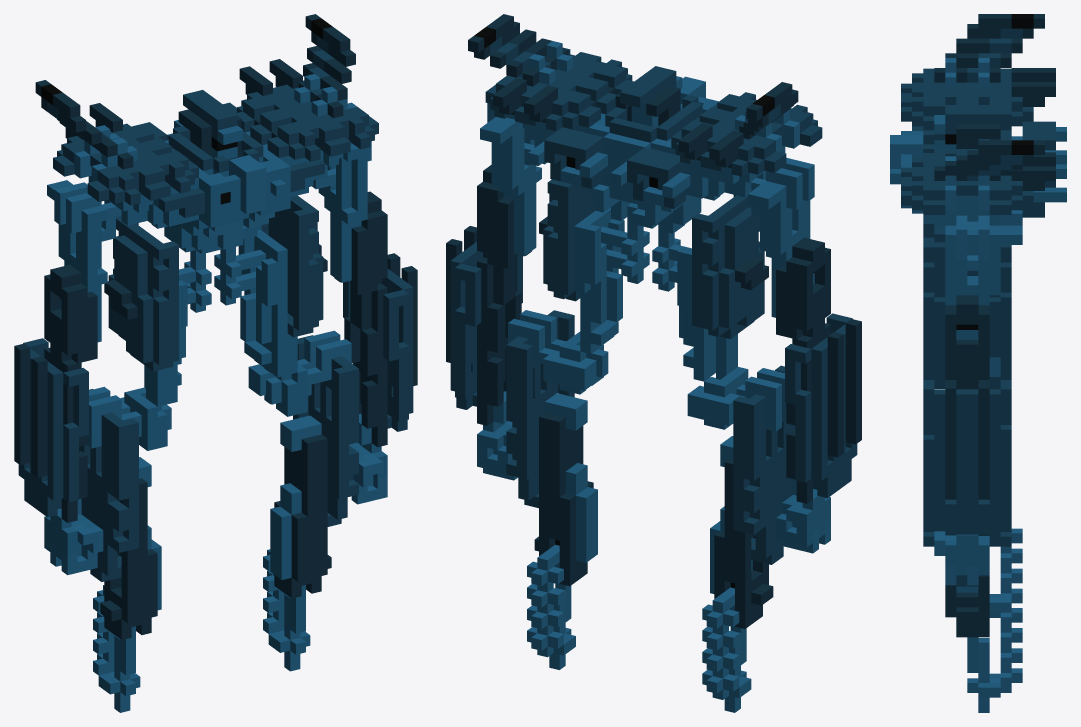
The model's file is lvl4.obj.
3 renders of one model, left to right at view 1: azimuth 30°, elevation 25°; view 2: azimuth 150°, elevation 25°; view 3: azimuth 270°, elevation 25°, orthographic. The views are drawn at different scales.
Size of the model in its own units: 3.8 by 5.9 by 1.6.
1 material, 1 textured.
